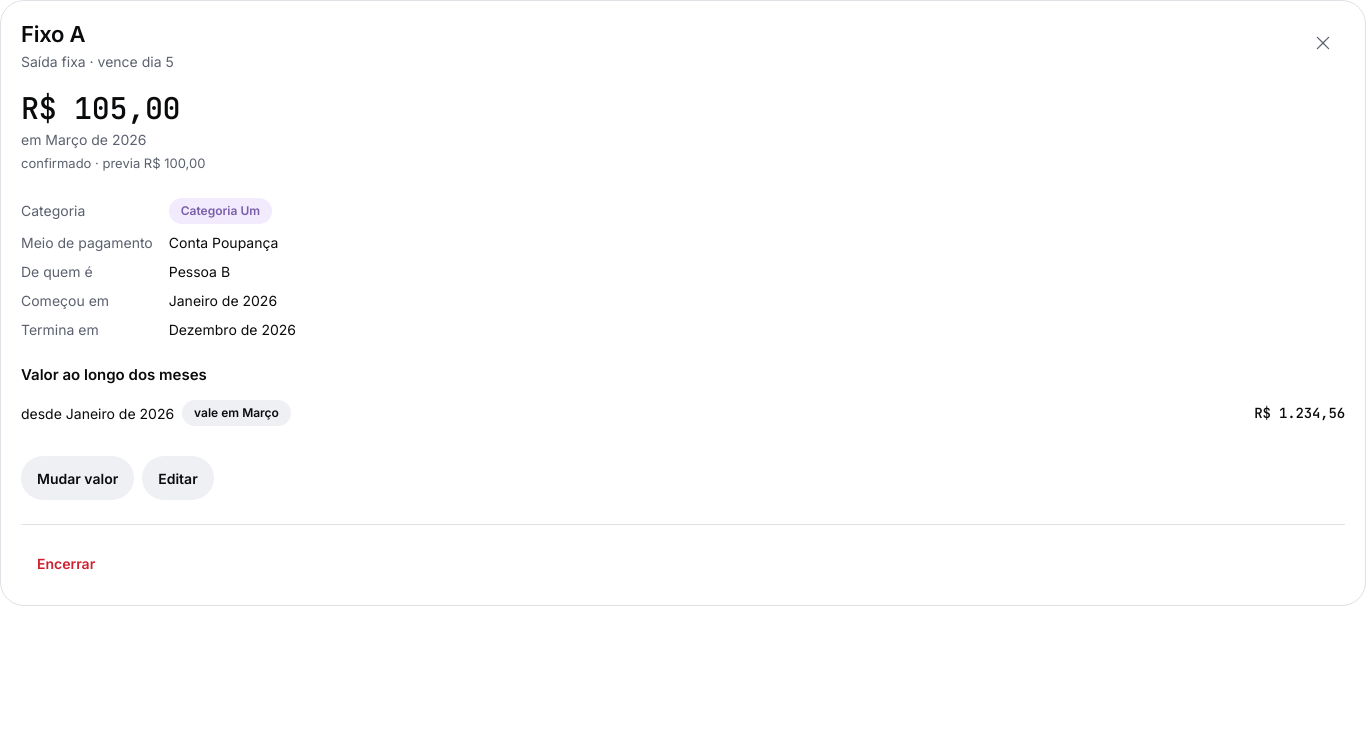
editar no painel (FIXCOL-05, ACs 4 a 6) › o valor da edição é a previsão do mês, e não o confirmado
This screenshot has width=1366, height=741.
Click the button "Editar" at (178, 478), box [142,456,214,500]
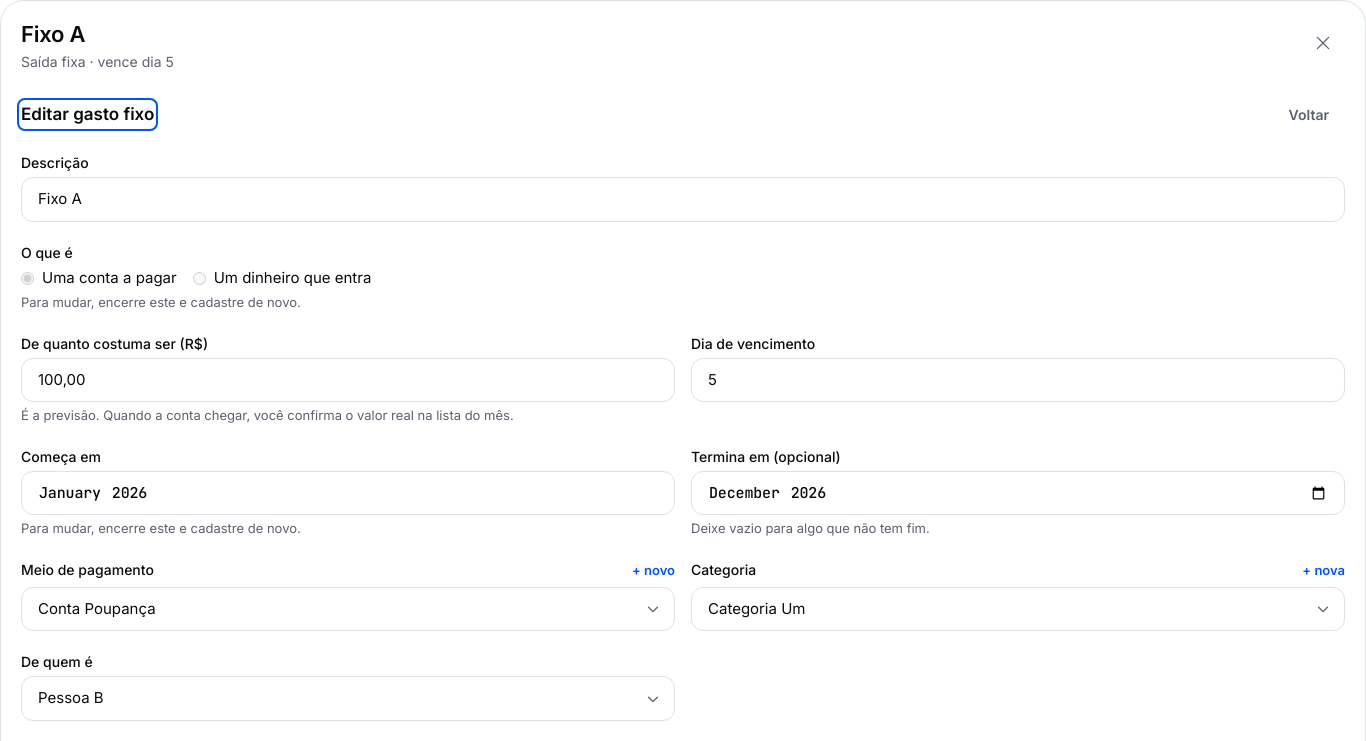
Now the field labelled "De quanto costuma ser (R$)" holds "100,00", box [21,358,675,402]
